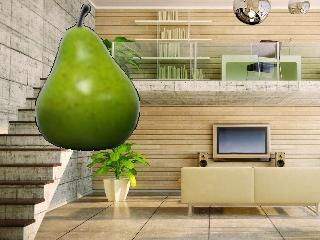pear: (33, 1, 145, 154)
